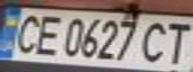0: (57, 15, 84, 58)
2: (100, 16, 124, 61)
6: (78, 15, 103, 60)
7: (115, 16, 145, 63)
C: (136, 18, 175, 64), (6, 10, 45, 55)
E: (30, 11, 66, 56)
T: (157, 19, 193, 65)
